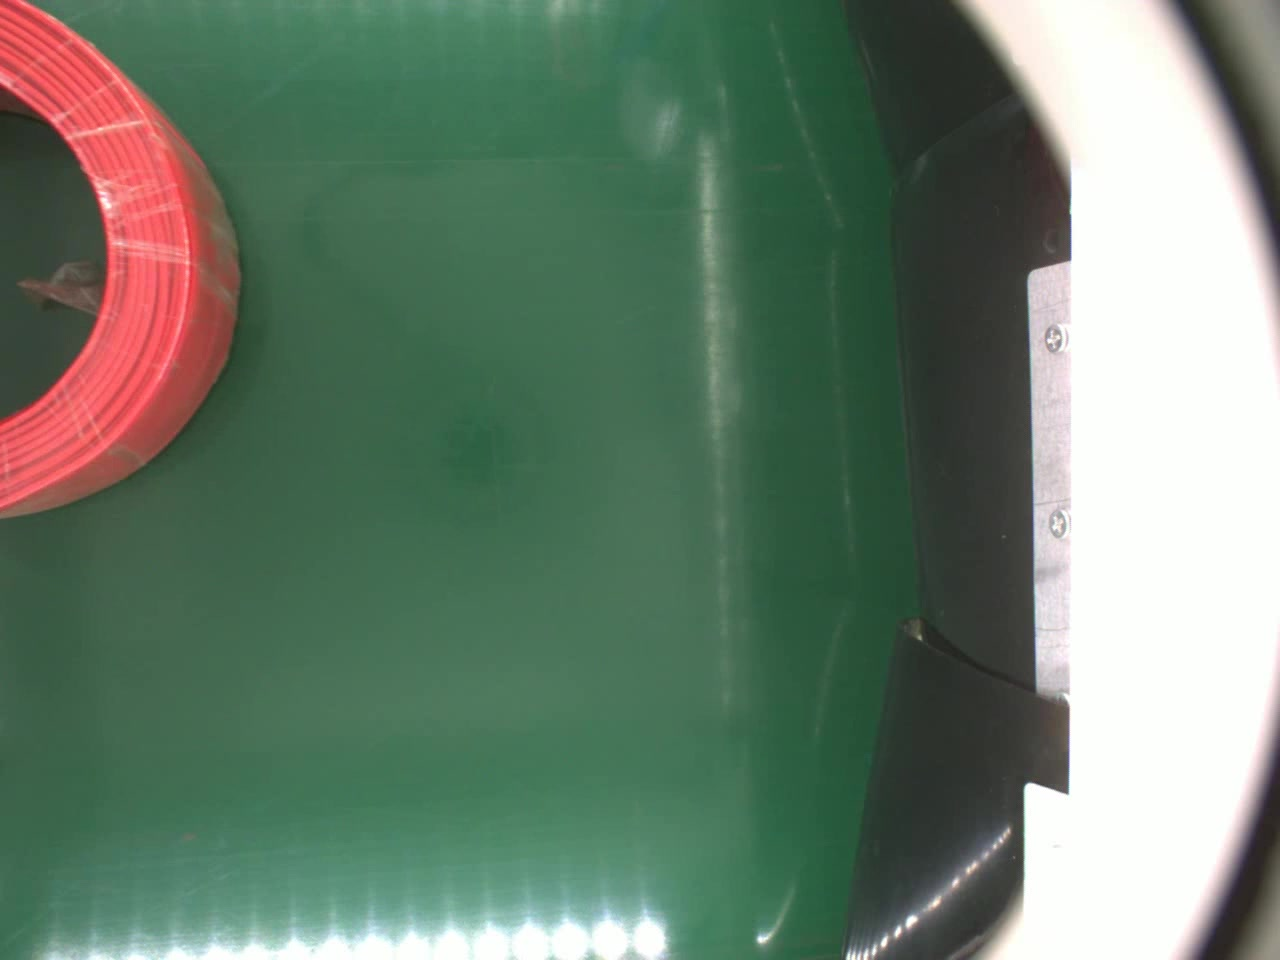red: (0, 0, 241, 524)
